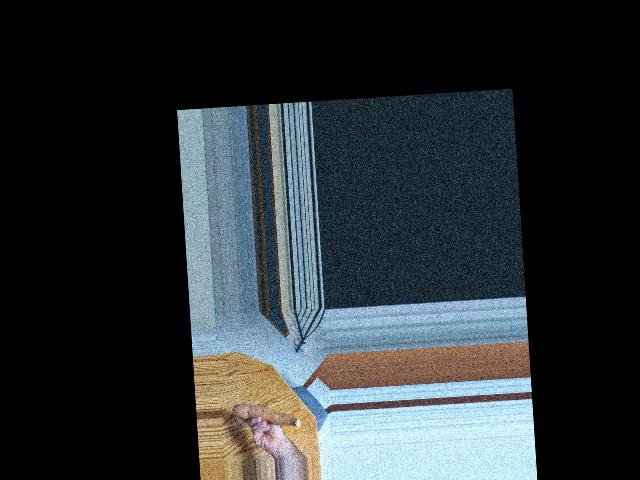sweet_potato: (233, 397, 301, 431)
